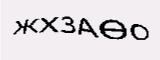С: (17, 15, 34, 39)
Ф: (56, 14, 73, 44)
Ш: (76, 17, 110, 48), (35, 18, 56, 38)
Щ: (116, 15, 149, 46)
